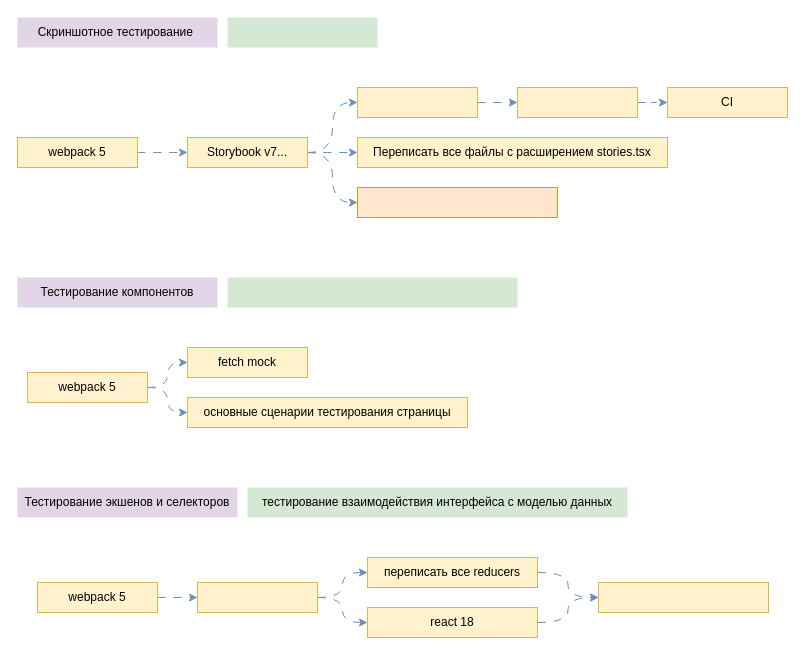
The diagram is 805 pixels wide and 655 high, and some of its shapes have lost their labels. Each missing label, with the box of its shape:
Docker: (516, 86, 638, 118)
redux-toolkit: (196, 582, 318, 612)
Библиотека Loki: (356, 86, 478, 118)
Переписать атомы под UI kit: (356, 186, 558, 218)
поделить reducer на сам reducer, actions и selectors: (598, 582, 768, 612)
тестирование верстки: (227, 17, 377, 47)
тестирование логики работы страницы в целом: (227, 277, 517, 307)
